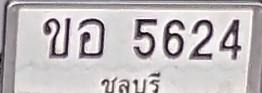2: (189, 18, 213, 60)
4: (219, 18, 241, 60)
5: (133, 18, 157, 59)
6: (162, 18, 184, 58)
A02: (43, 17, 71, 58)
A43: (78, 18, 106, 58)
CBI: (95, 69, 165, 93)
